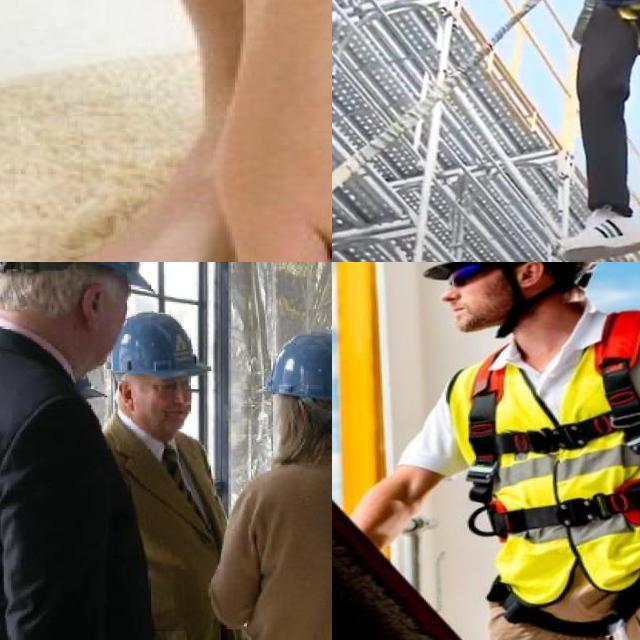Barefoots: (214, 0, 332, 262)
Harness: (467, 308, 640, 540)
No_Ear-Protection: (82, 283, 105, 328), (117, 378, 138, 414)
No_Glasses: (152, 378, 191, 393)
face_nomask: (142, 392, 191, 436)
head_helmet: (111, 313, 209, 377), (265, 333, 332, 399)
